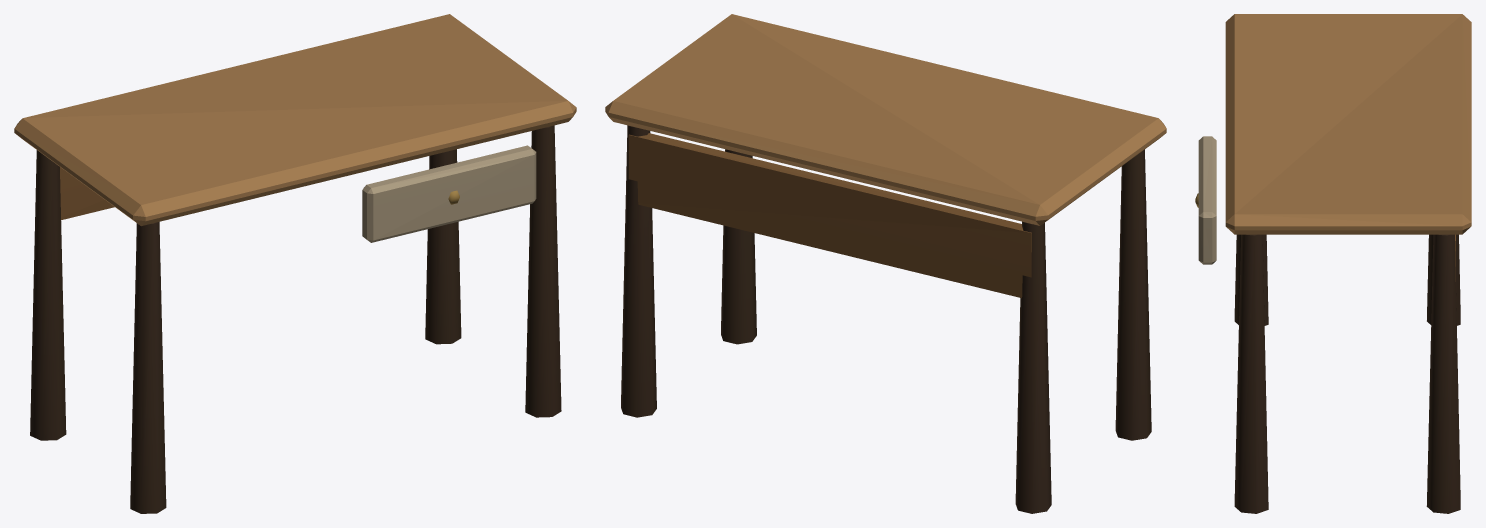
Rendered from desk.glb.
The picture shows the model from 3 angles, left to right: view 1: azimuth 30°, elevation 25°; view 2: azimuth 150°, elevation 25°; view 3: azimuth 270°, elevation 25°; orthographic projection. The views are drawn at different scales.
Parts seen in each view (by area): view 1: desk; view 2: desk; view 3: desk.
Boxes of the visible parts, x1,y1,x2,y2 form: desk: (14, 14, 576, 513); desk: (605, 14, 1166, 513); desk: (1195, 14, 1471, 513).
Bounding box in the file's own units: 1.1 × 0.74 × 0.6173.
